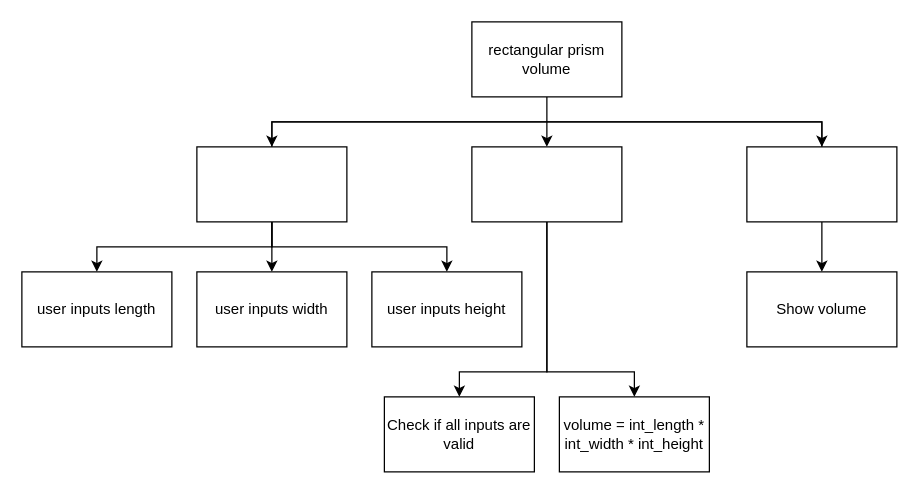
Some shapes in this 919 by 494 pixel diagram are drawn without their labels. The centre of each missing label's shape, as x and y in pixels:
"Input" belongs at [271,184].
"Output" belongs at [821,184].
"Process" belongs at [546,184].
